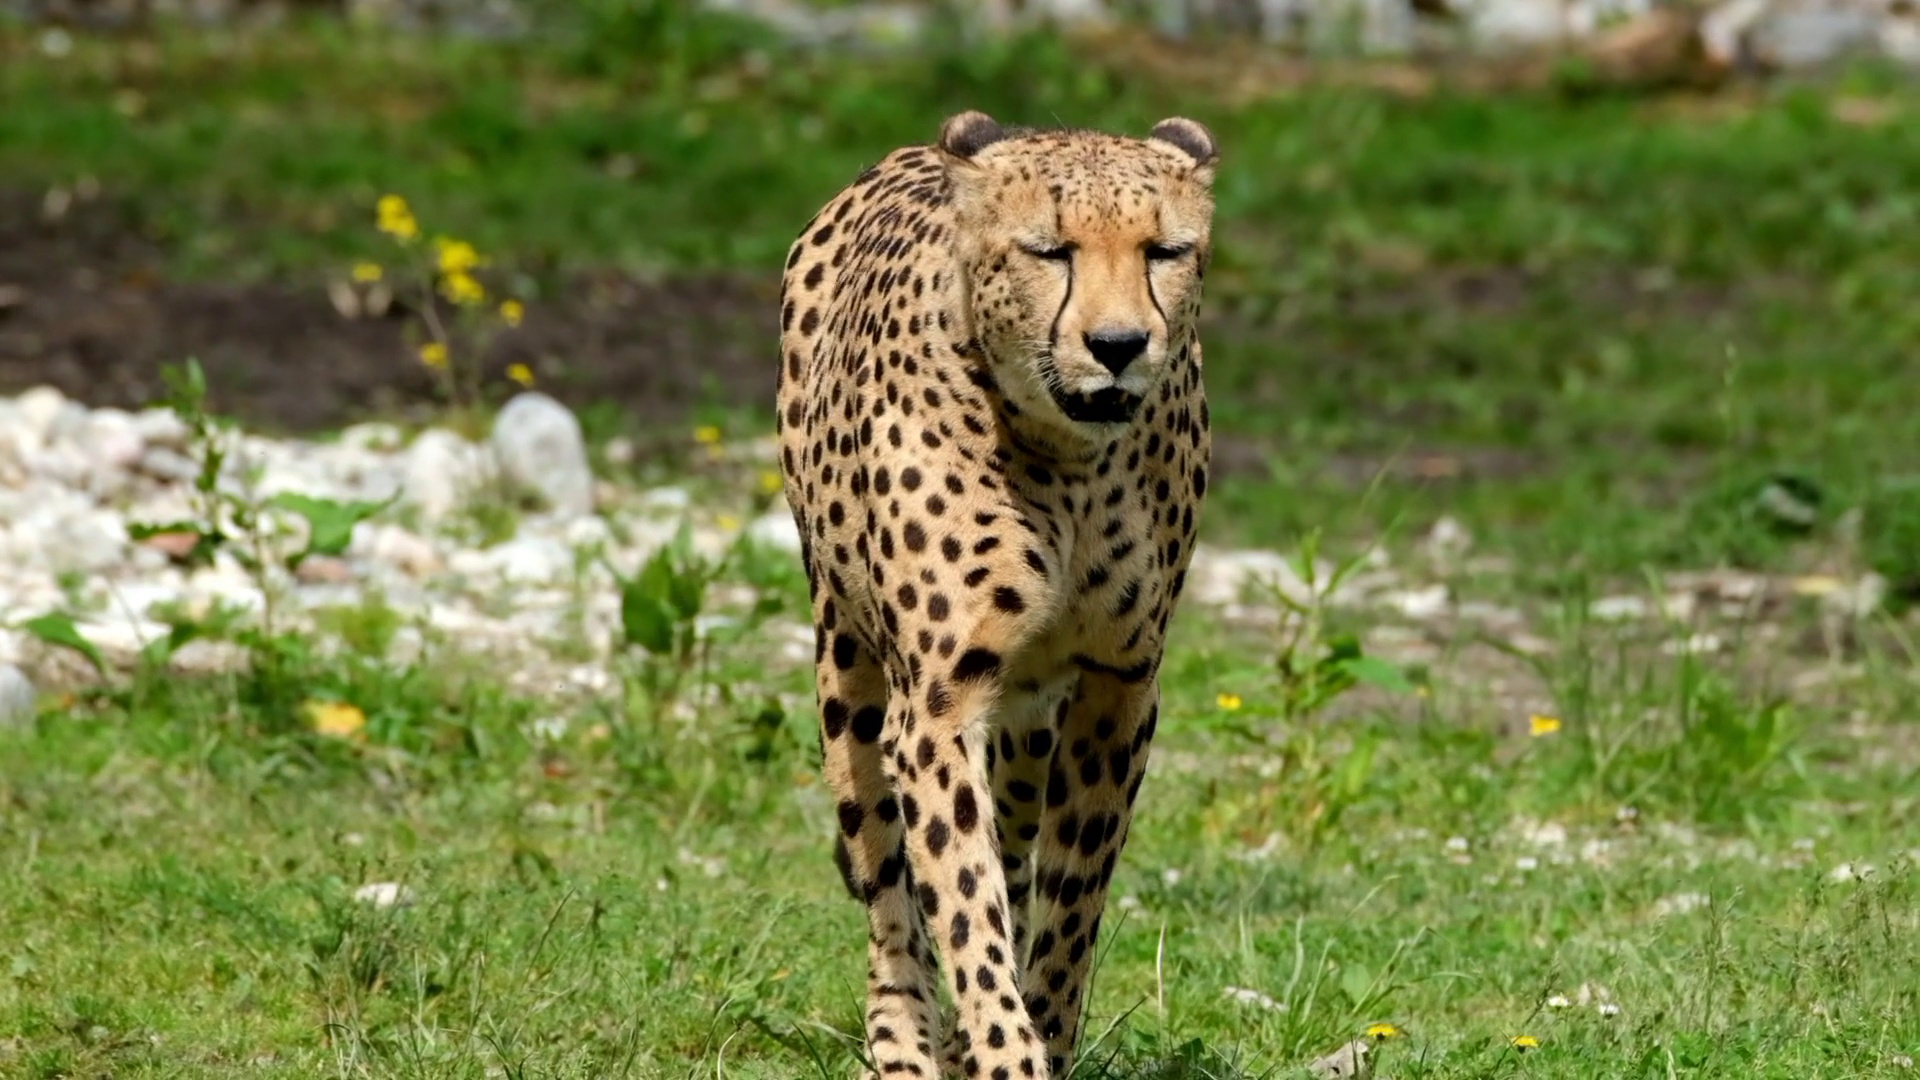Cheetah: (774, 103, 1218, 1080)
